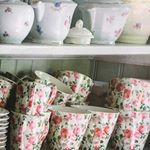cups: (71, 103, 119, 150), (47, 104, 92, 150)
